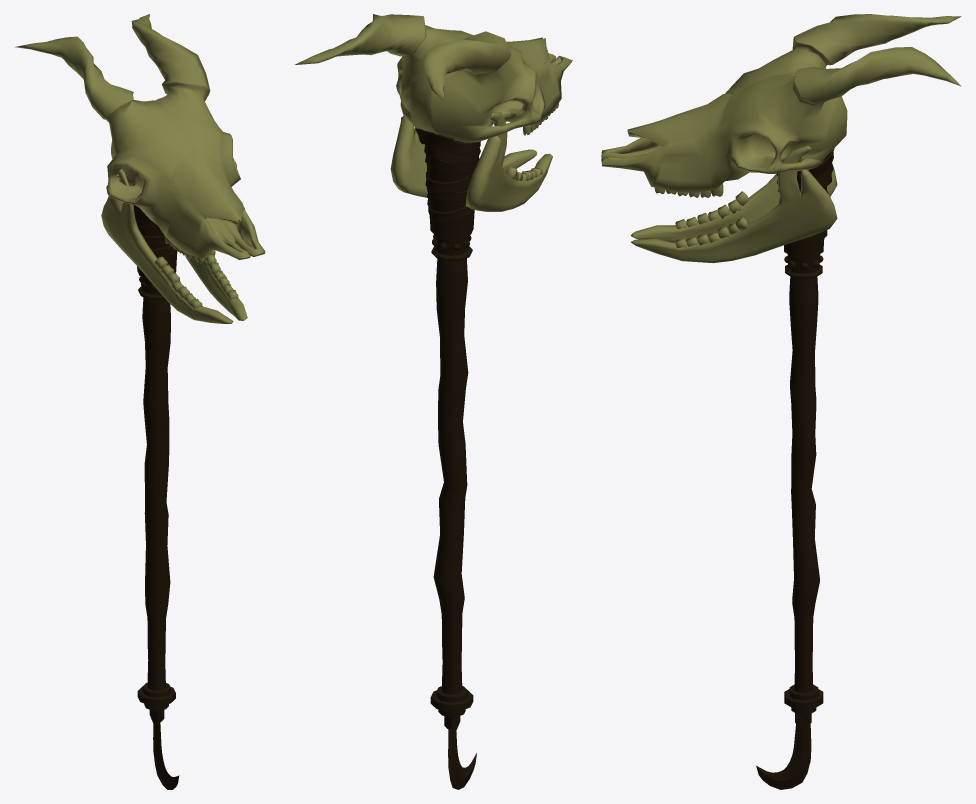
3 renders of one model, left to right at view 1: azimuth 30°, elevation 25°; view 2: azimuth 150°, elevation 25°; view 3: azimuth 270°, elevation 25°, orthographic. The views are drawn at different scales.
Parts seen in each view (by area): view 1: g Staff_grp_adjustable Staff_Head, g Staff_grp_adjustable Staff, g Staff_Jaw Staff_grp_adjustable, g Staff_grp_adjustable Blade, g Staff_grp_adjustable Wrabs; view 2: g Staff_grp_adjustable Staff_Head, g Staff_grp_adjustable Staff, g Staff_Jaw Staff_grp_adjustable, g Staff_grp_adjustable Wrabs, g Staff_grp_adjustable Blade; view 3: g Staff_grp_adjustable Staff_Head, g Staff_grp_adjustable Staff, g Staff_Jaw Staff_grp_adjustable, g Staff_grp_adjustable Blade, g Staff_grp_adjustable Wrabs.
Boxes of the visible parts, box(x1,y1,x2,y2) form: g Staff_grp_adjustable Staff_Head: box(15, 14, 265, 263); g Staff_grp_adjustable Staff: box(136, 211, 177, 710); g Staff_Jaw Staff_grp_adjustable: box(101, 169, 247, 323); g Staff_grp_adjustable Blade: box(149, 709, 179, 789); g Staff_grp_adjustable Wrabs: box(133, 205, 177, 258); g Staff_grp_adjustable Staff_Head: box(295, 14, 572, 142); g Staff_grp_adjustable Staff: box(426, 137, 475, 717); g Staff_Jaw Staff_grp_adjustable: box(390, 112, 552, 211); g Staff_grp_adjustable Wrabs: box(415, 128, 480, 222); g Staff_grp_adjustable Blade: box(444, 716, 476, 789); g Staff_grp_adjustable Staff_Head: box(601, 14, 961, 197); g Staff_grp_adjustable Staff: box(784, 154, 828, 714); g Staff_Jaw Staff_grp_adjustable: box(630, 146, 837, 263); g Staff_grp_adjustable Blade: box(756, 713, 811, 789); g Staff_grp_adjustable Wrabs: box(777, 148, 834, 238).
Size of the model in its own units: 0.3971 by 2 by 0.8623.
